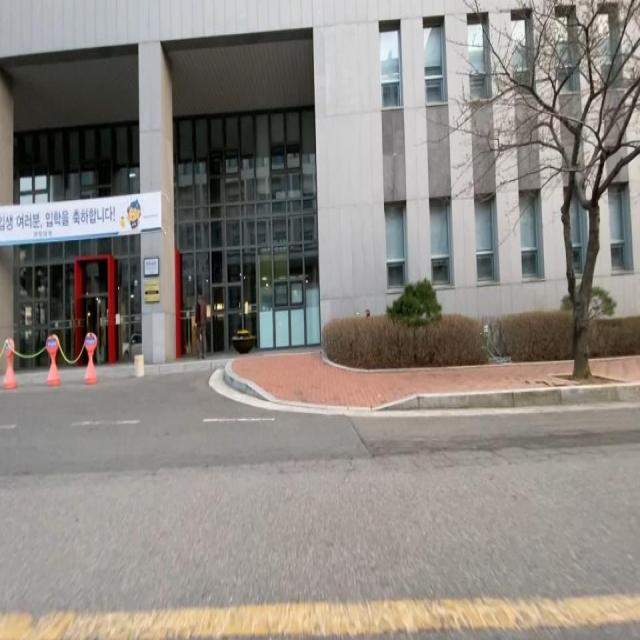sidewalk: (231, 354, 580, 406), (590, 357, 640, 385)
